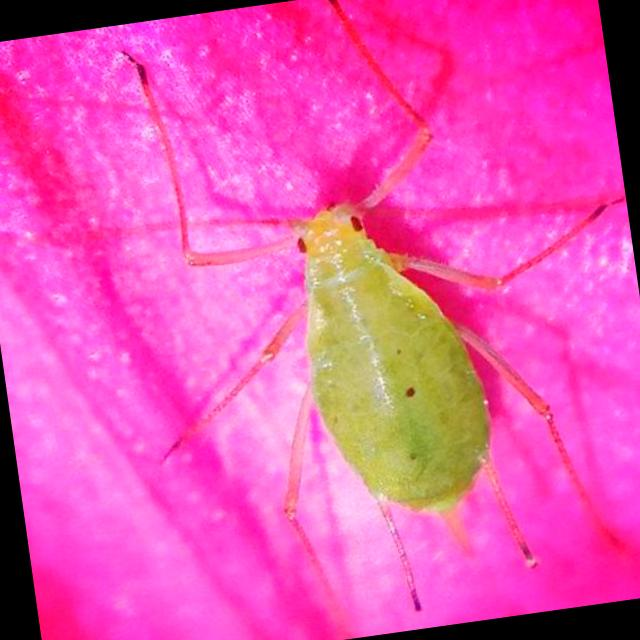Aphid: (91, 0, 627, 615)
